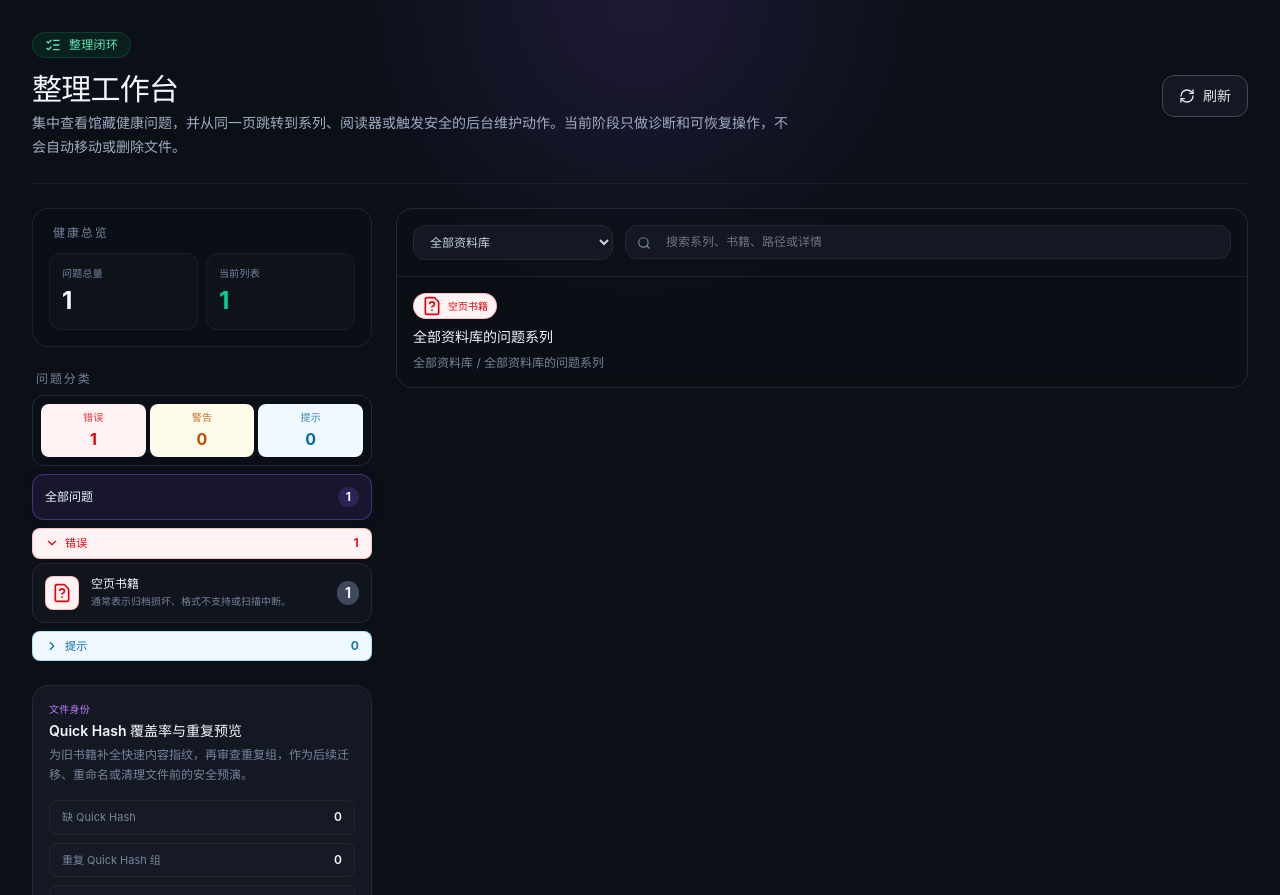
整理工作台切换资料库 › 慢网下先选的库响应后到，也不会盖掉已经切过去的那个库的问题列表
Expected: the text "全部资料库的问题系列" is shown, [413,328,553,345]
Note: 切到甲库：请求挂着不回。
Select "甲库" in the dropdown at (513, 242), box [413,225,613,260]
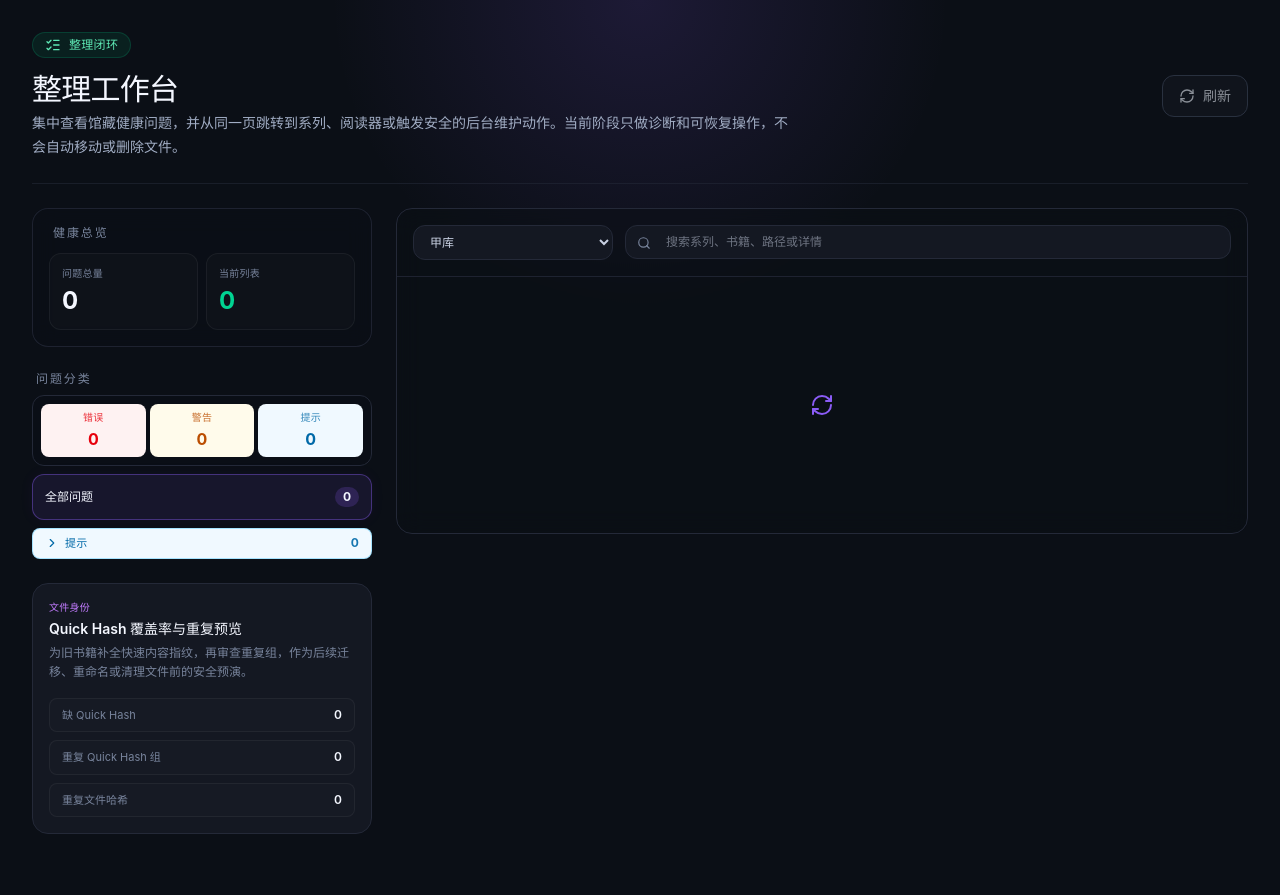
Result: the button "全部资料库的问题系列" is gone
Note: 再切到乙库：这一份先落地。
Select "乙库" in the dropdown at (513, 242), box [413,225,613,260]
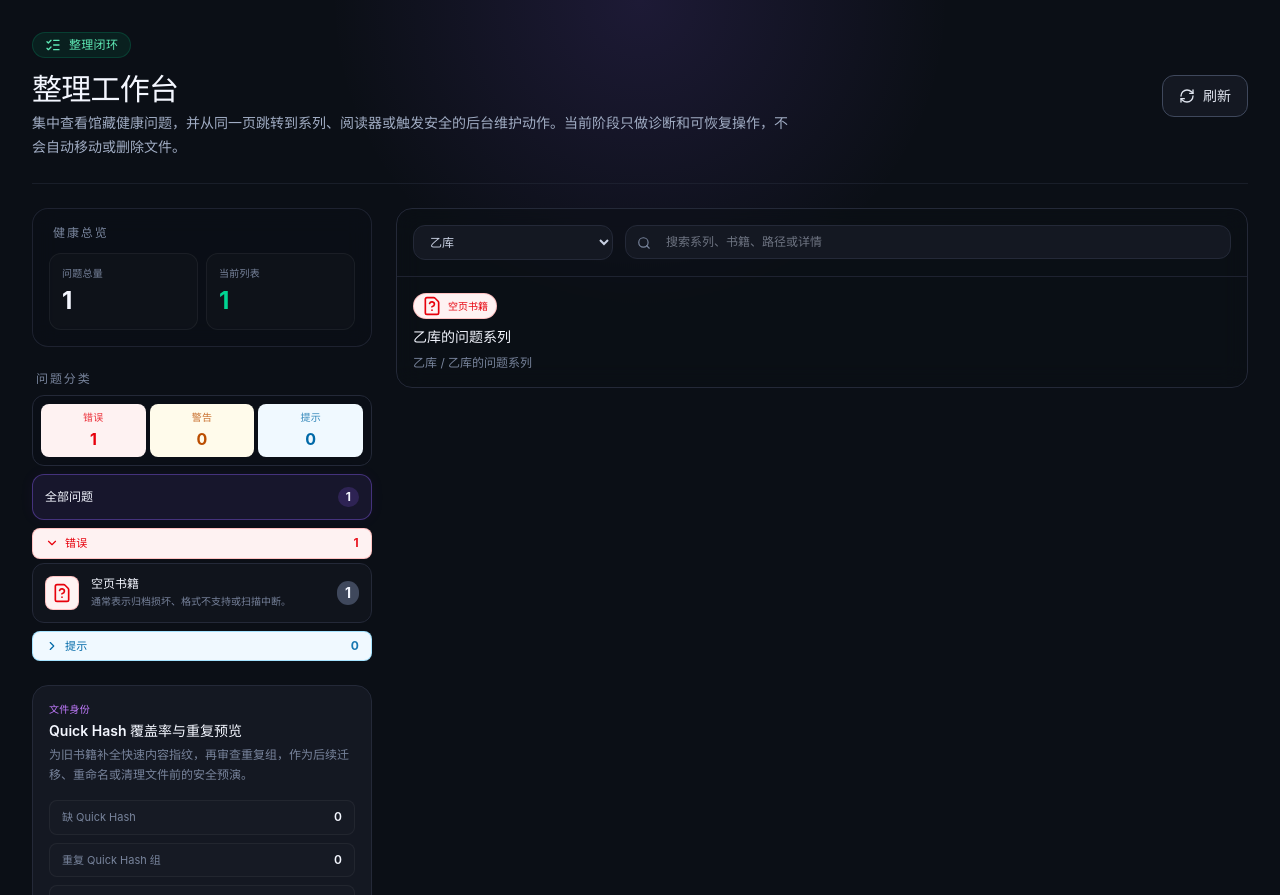
Result: the text "乙库的问题系列" is shown at [413,328,511,345]
